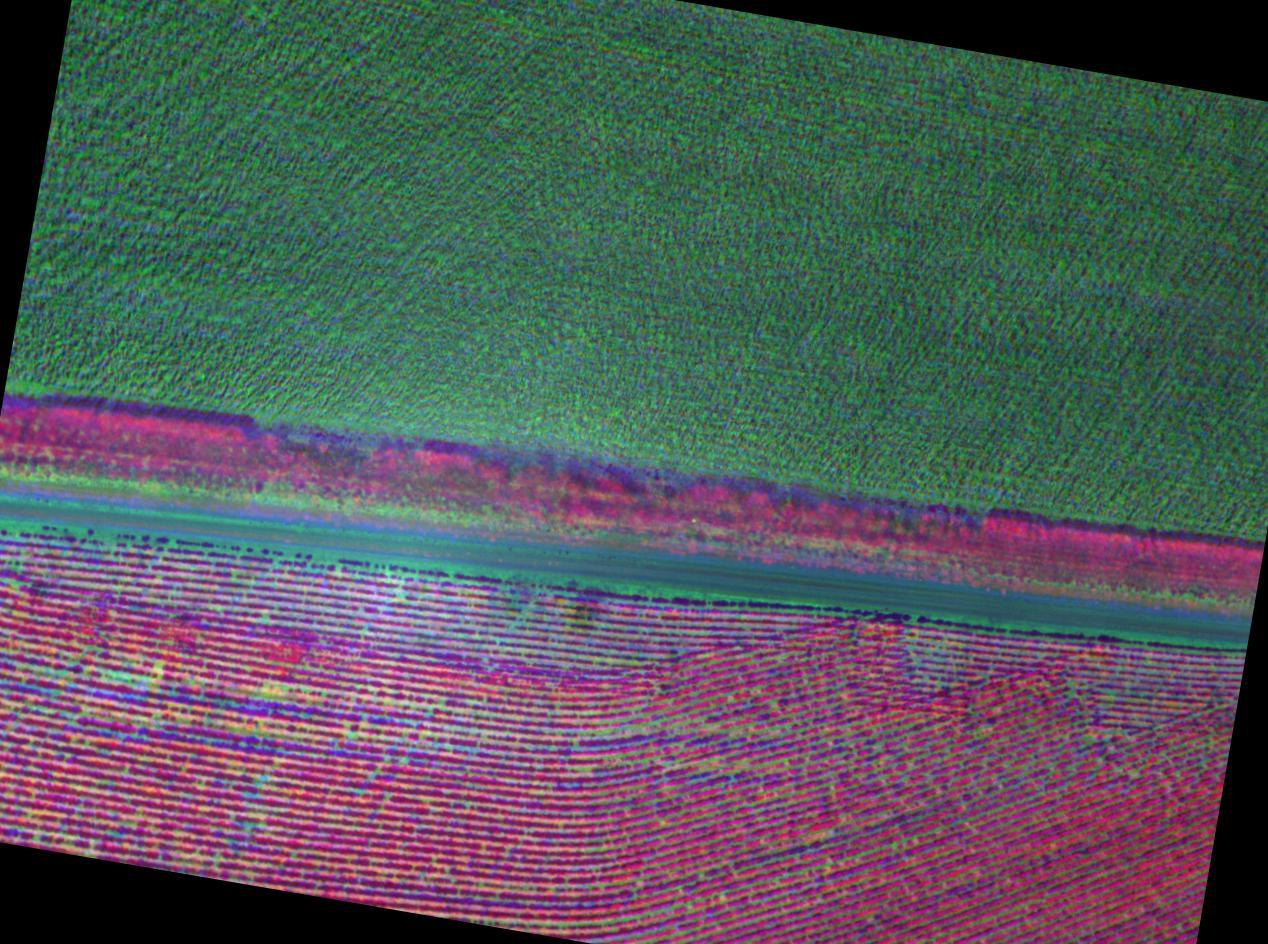dc: (232, 659, 437, 758), (537, 558, 638, 662), (60, 637, 156, 710)
